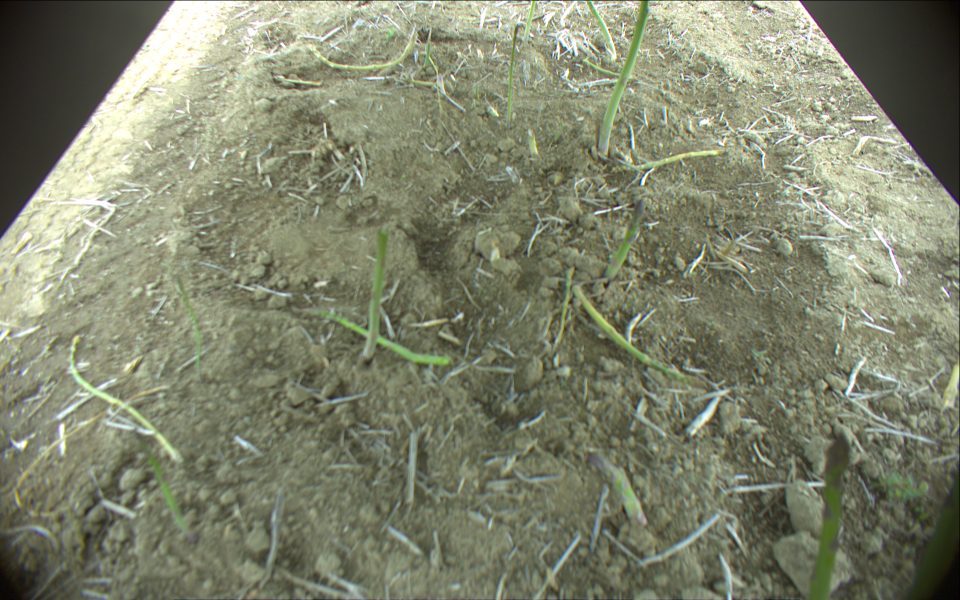aspa: (68, 335, 186, 461), (573, 280, 690, 380), (801, 432, 849, 600), (312, 310, 447, 365), (601, 1, 650, 151), (133, 436, 196, 539), (303, 21, 420, 70), (589, 453, 645, 526), (360, 229, 389, 361), (603, 199, 647, 285), (607, 148, 728, 176), (581, 1, 618, 63), (503, 25, 521, 126), (523, 1, 538, 45), (422, 27, 434, 71)
